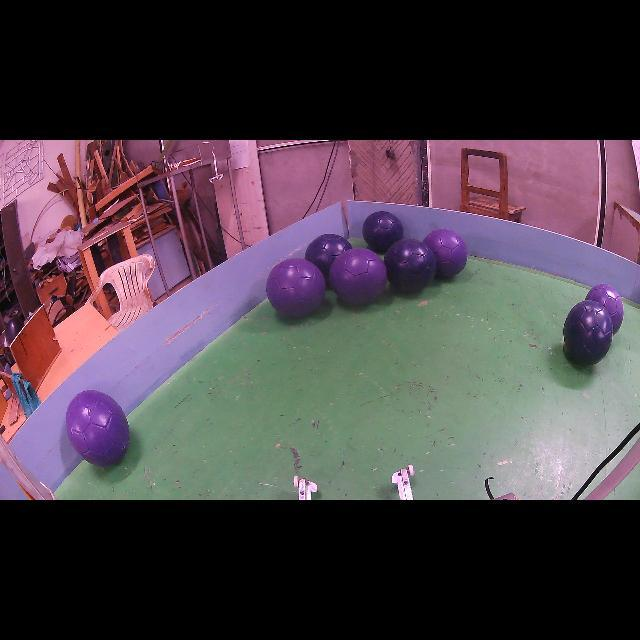B: (562, 300, 614, 365), (384, 239, 436, 291), (305, 234, 352, 285), (362, 211, 404, 251)
P: (66, 390, 130, 466), (266, 258, 325, 318), (329, 248, 388, 305), (424, 229, 468, 278), (585, 284, 624, 333)
